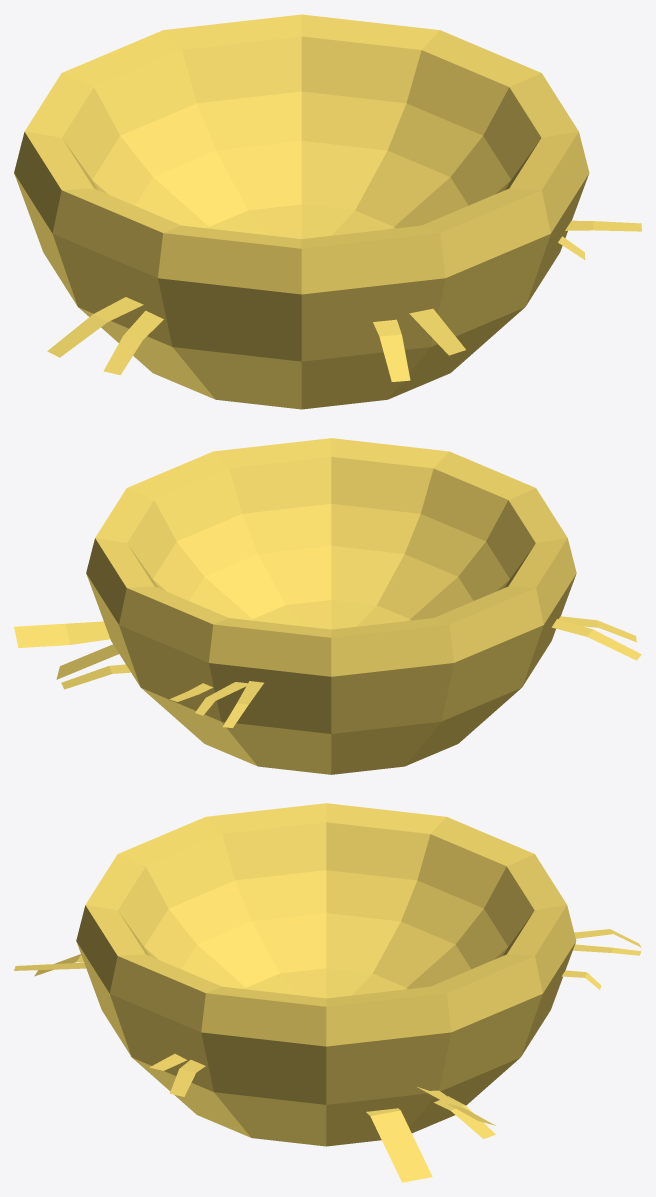
File: nest.glb
3 renders of one model, top to bottom at view 1: azimuth 30°, elevation 25°; view 2: azimuth 150°, elevation 25°; view 3: azimuth 270°, elevation 25°, orthographic. The views are drawn at different scales.
Visible parts, largest first — view 1: nest; view 2: nest; view 3: nest.
Boxes of the visible parts, x1=… form: nest: x1=14, y1=14, x2=641, y2=409; nest: x1=14, y1=438, x2=641, y2=774; nest: x1=14, y1=803, x2=641, y2=1182.
Bounding box in the file's own units: 2.46 × 0.8165 × 2.61.
Materials: 1 (1 with a texture image).
